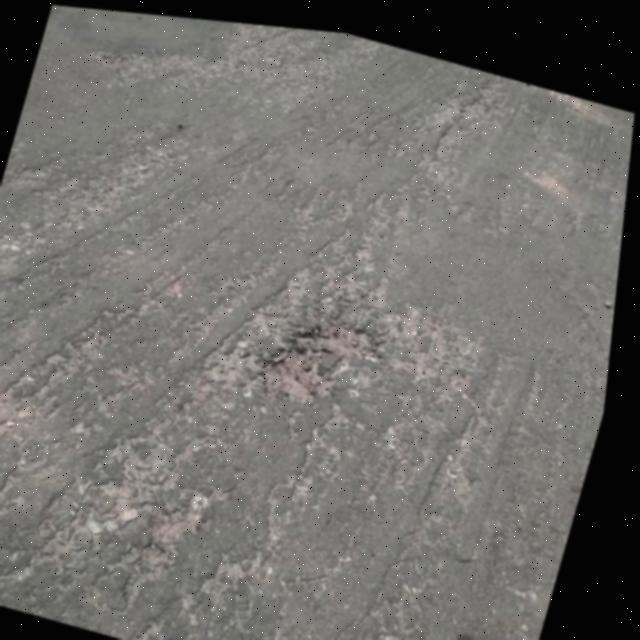pothole: (259, 298, 392, 414)
